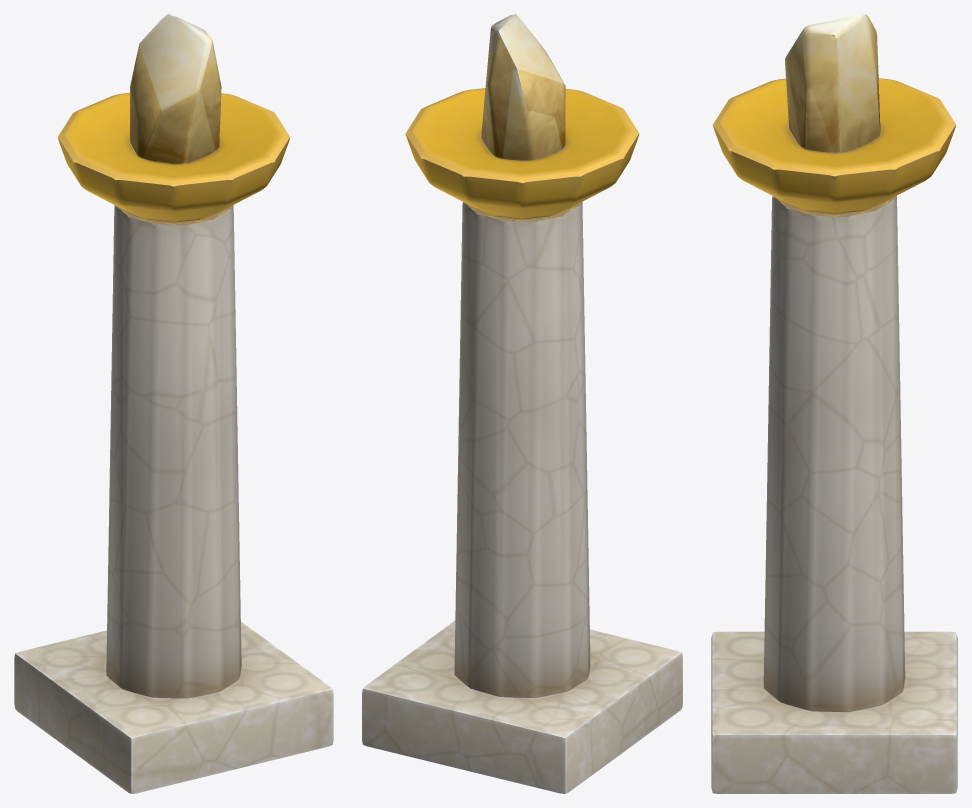
Rendered from Divin_Vasque.fbx.
3 renders of one model, left to right at view 1: azimuth 30°, elevation 25°; view 2: azimuth 150°, elevation 25°; view 3: azimuth 270°, elevation 25°, orthographic. The views are drawn at different scales.
Visible parts, largest first — view 1: Divin_Vasque; view 2: Divin_Vasque; view 3: Divin_Vasque.
Part boxes in pixels (<box>): Divin_Vasque: <box>14,14,333,793</box>; Divin_Vasque: <box>362,14,682,793</box>; Divin_Vasque: <box>711,14,957,793</box>.
Bounding box in the file's own units: 440 × 1445 × 440.
Materials: 1 (1 with a texture image).
